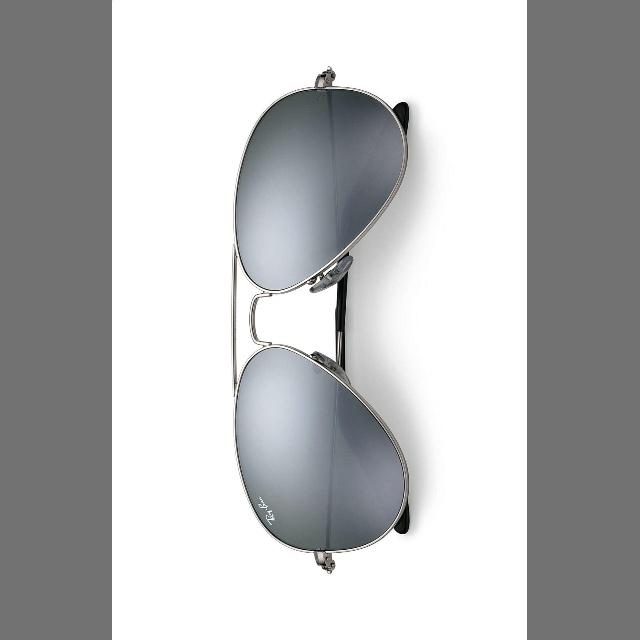Sunglasses: (194, 44, 472, 600)
